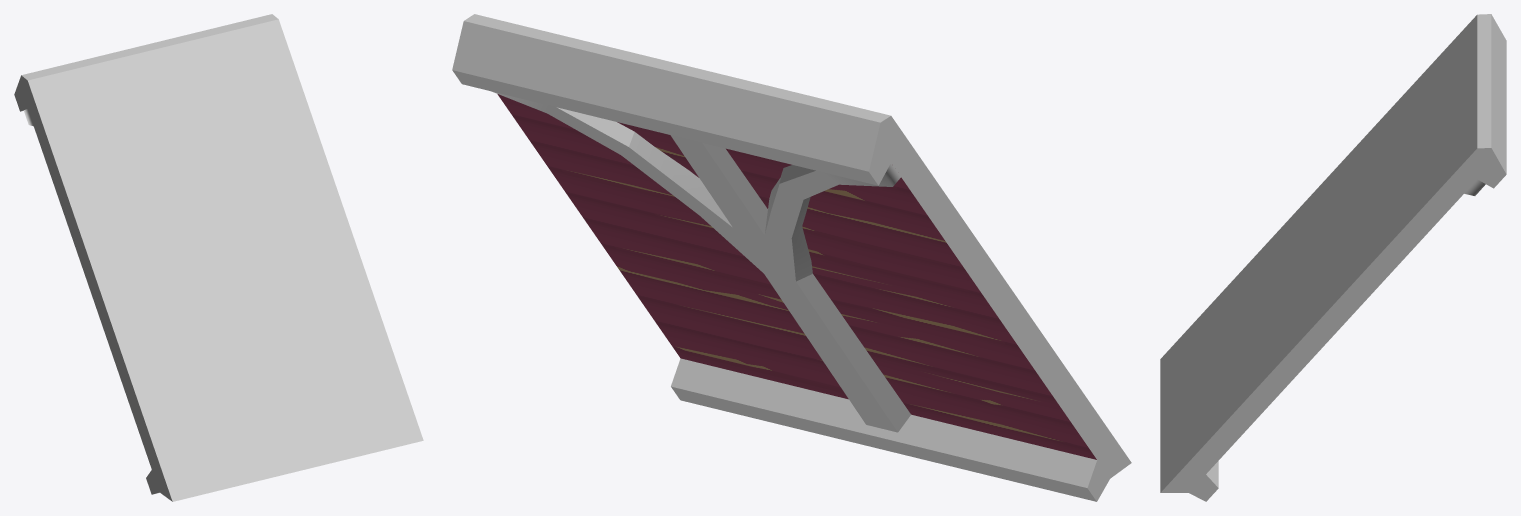
The model's file is SM_Bld_Roof_Straight_01.fbx.
The picture shows the model from 3 angles, left to right: view 1: azimuth 30°, elevation 25°; view 2: azimuth 150°, elevation 25°; view 3: azimuth 270°, elevation 25°; orthographic projection. The views are drawn at different scales.
Visible parts, largest first — view 1: SM_Bld_Roof_Straight_01; view 2: SM_Bld_Roof_Straight_01; view 3: SM_Bld_Roof_Straight_01.
Boxes of the visible parts, x1,y1,x2,y2 form: SM_Bld_Roof_Straight_01: [14, 14, 423, 501]; SM_Bld_Roof_Straight_01: [452, 14, 1131, 501]; SM_Bld_Roof_Straight_01: [1160, 14, 1506, 501].
Bounding box in the file's own units: 250 × 308 × 273.
